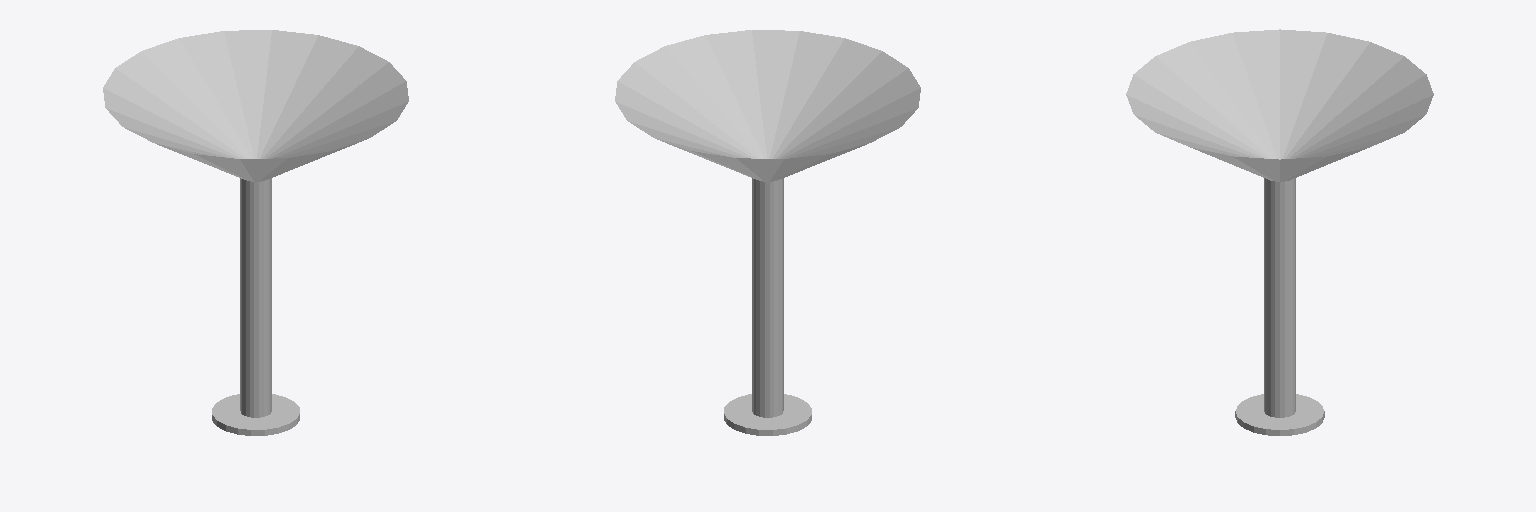
Rendered from glass.obj.
3 renders of one model, left to right at view 1: azimuth 30°, elevation 25°; view 2: azimuth 150°, elevation 25°; view 3: azimuth 270°, elevation 25°, orthographic.
Visible parts, largest first — view 1: pCylinder1; view 2: pCylinder1; view 3: pCylinder1.
Part boxes in pixels (x1,y1,x2,y2): pCylinder1: (103,30,408,435); pCylinder1: (615,30,920,435); pCylinder1: (1126,29,1433,435).
Bounding box in the file's own units: 2 × 2.31 × 2.